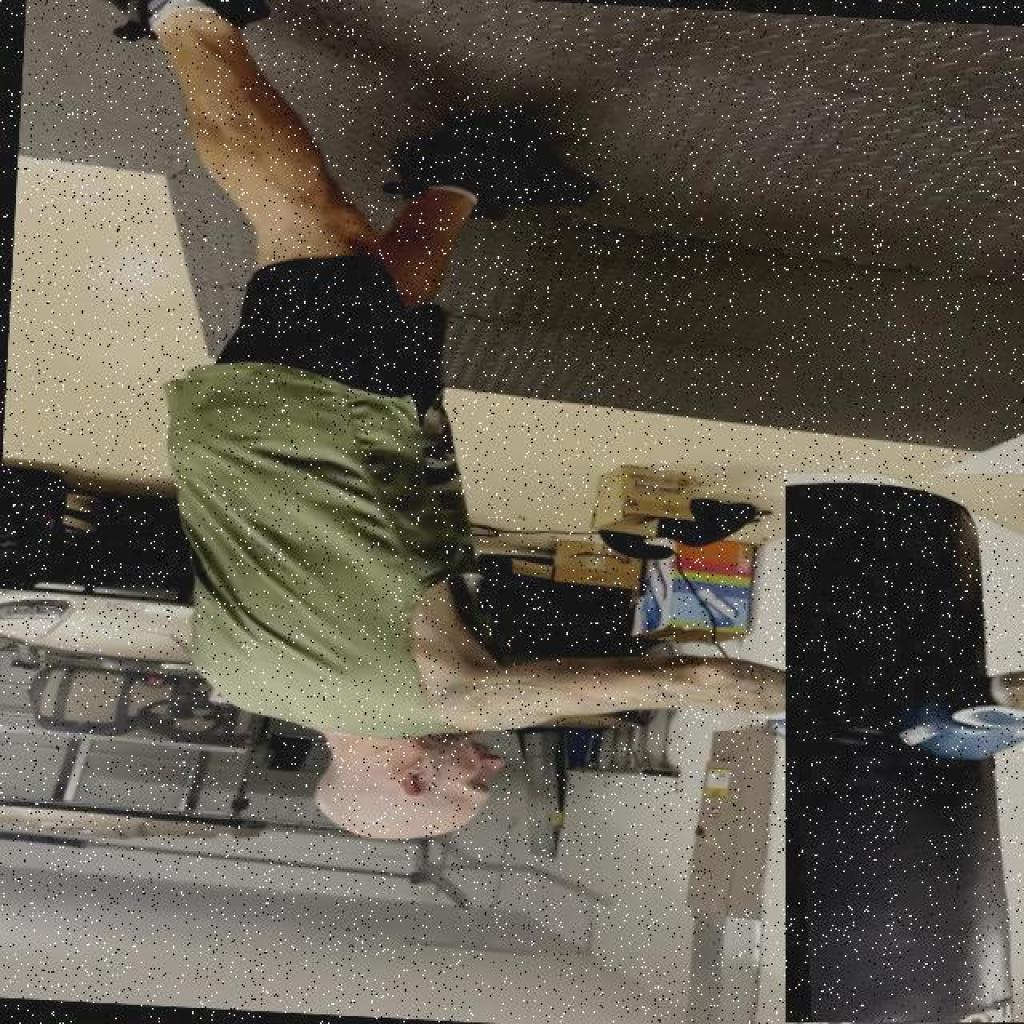bag: (785, 473, 1024, 1022)
cross: (171, 578, 938, 902)
